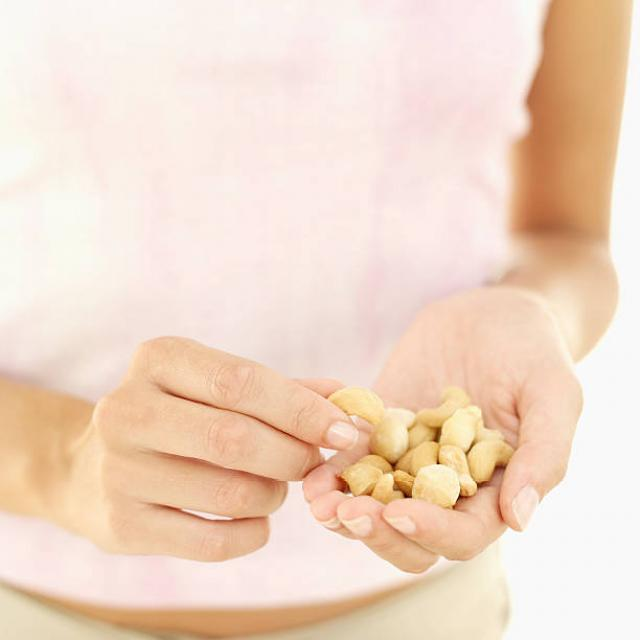Cashew: (340, 381, 403, 431), (416, 460, 458, 515), (436, 412, 480, 454), (470, 440, 514, 479)
